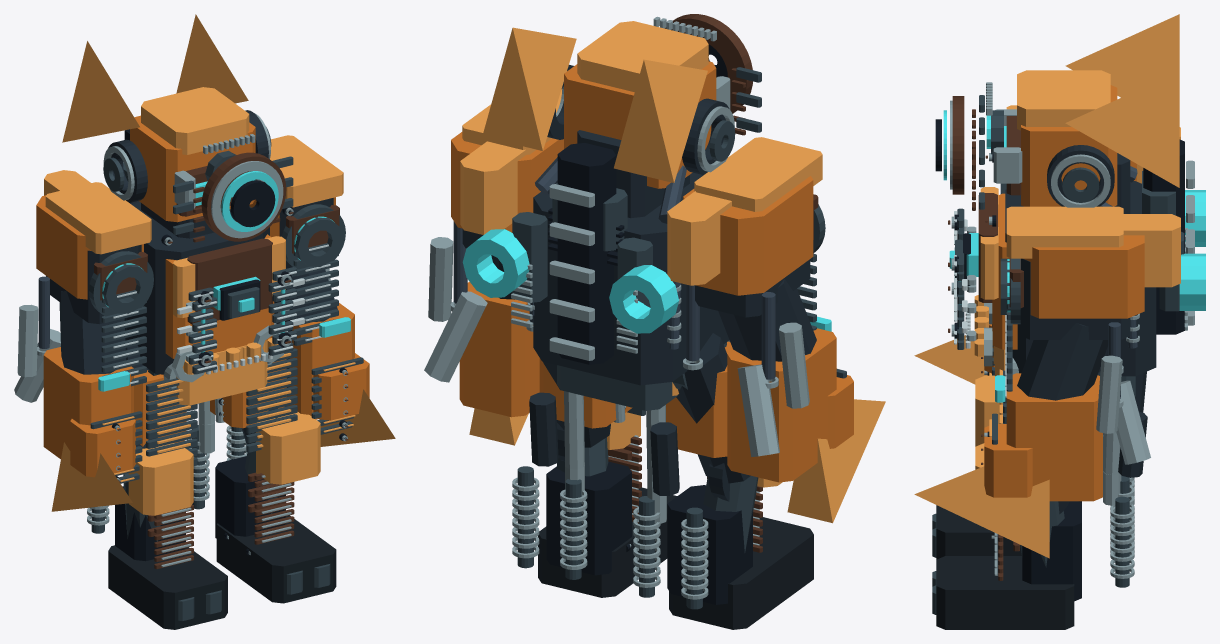
The model's file is enemy_runner_4k.obj.
The picture shows the model from 3 angles, left to right: view 1: azimuth 30°, elevation 25°; view 2: azimuth 150°, elevation 25°; view 3: azimuth 270°, elevation 25°; orthographic projection. The views are drawn at different scales.
Size of the model in its own units: 1.5 by 2.29 by 1.12.
